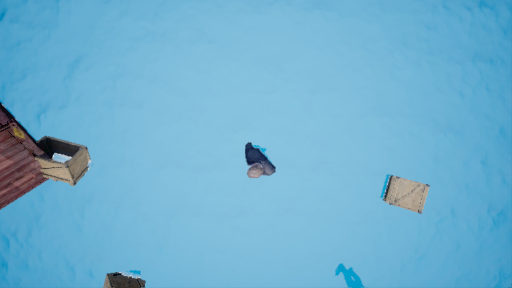person: (234, 140, 277, 188)
